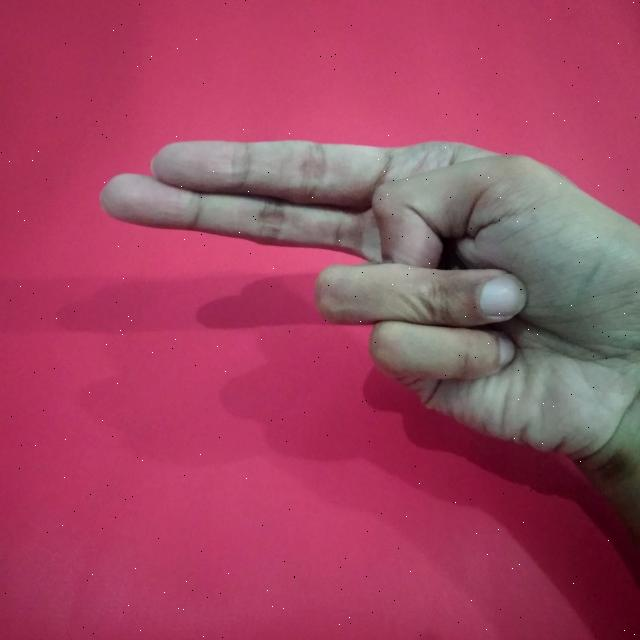H: (87, 134, 640, 559), (97, 131, 640, 543)
